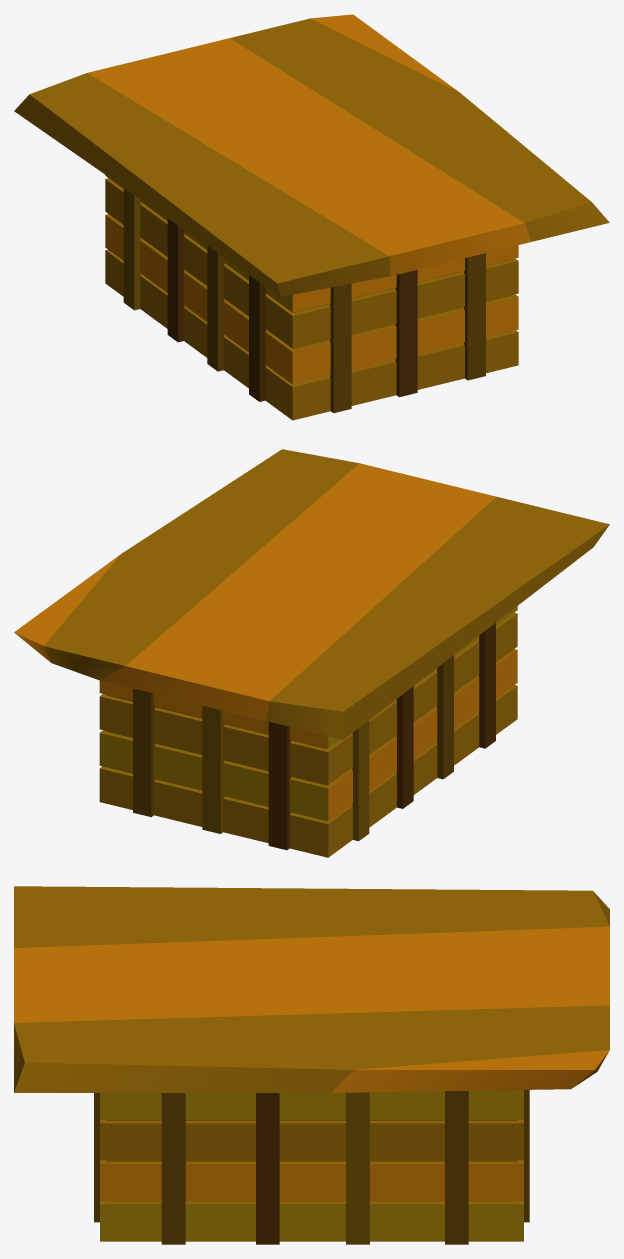
Rendered from Table.fbx.
The picture shows the model from 3 angles, top to bottom: view 1: azimuth 30°, elevation 25°; view 2: azimuth 150°, elevation 25°; view 3: azimuth 270°, elevation 25°; orthographic projection. The views are drawn at different scales.
Parts seen in each view (by area): view 1: pCube18, pCube3, pCube6, pCube4, pCube5, pCube10, pCube11, pCube12, pCube13; view 2: pCube18, pCube3, pCube7, pCube8, pCube9, pCube11, pCube12, pCube13, pCube10; view 3: pCube18, pCube3, pCube14, pCube17, pCube16, pCube15, pCube9, pCube5.
Part boxes in pixels (box(x1,y1,x2,y2)): pCube18: box(14, 14, 609, 296); pCube3: box(105, 175, 518, 420); pCube6: box(330, 283, 351, 413); pCube4: box(395, 270, 417, 397); pCube5: box(464, 253, 485, 380); pCube10: box(123, 188, 140, 310); pCube11: box(249, 275, 265, 401); pCube12: box(207, 246, 224, 371); pCube13: box(167, 218, 184, 342); pCube18: box(14, 449, 609, 739); pCube3: box(99, 606, 517, 857); pCube7: box(268, 722, 290, 850); pCube8: box(202, 705, 224, 833); pCube9: box(133, 688, 154, 817); pCube11: box(479, 623, 495, 748); pCube12: box(437, 655, 453, 779); pCube13: box(396, 686, 413, 808); pCube10: box(352, 720, 369, 841); pCube18: box(14, 886, 609, 1092); pCube3: box(100, 1090, 523, 1241); pCube14: box(161, 1093, 185, 1244); pCube17: box(445, 1090, 468, 1244); pCube16: box(346, 1092, 369, 1244); pCube15: box(256, 1093, 279, 1244); pCube9: box(524, 1090, 529, 1222); pCube5: box(94, 1093, 99, 1222).
Size of the model in its own units: 5.43 by 2.78 by 7.45.
